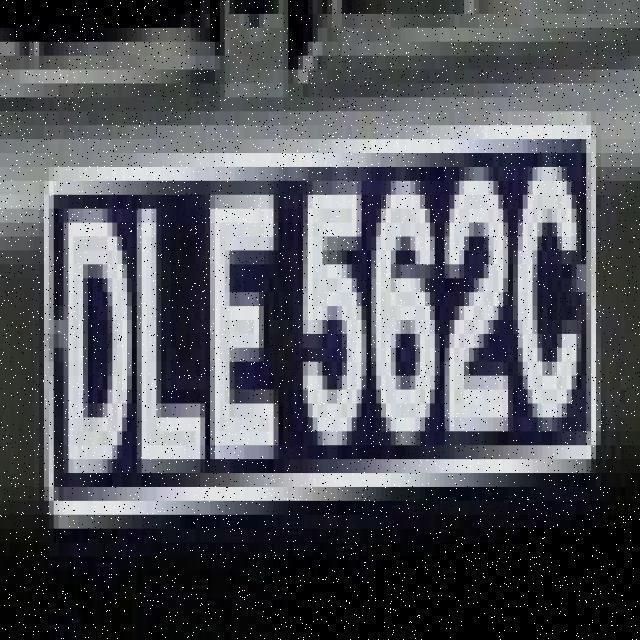License Plate: (29, 70, 618, 558)
